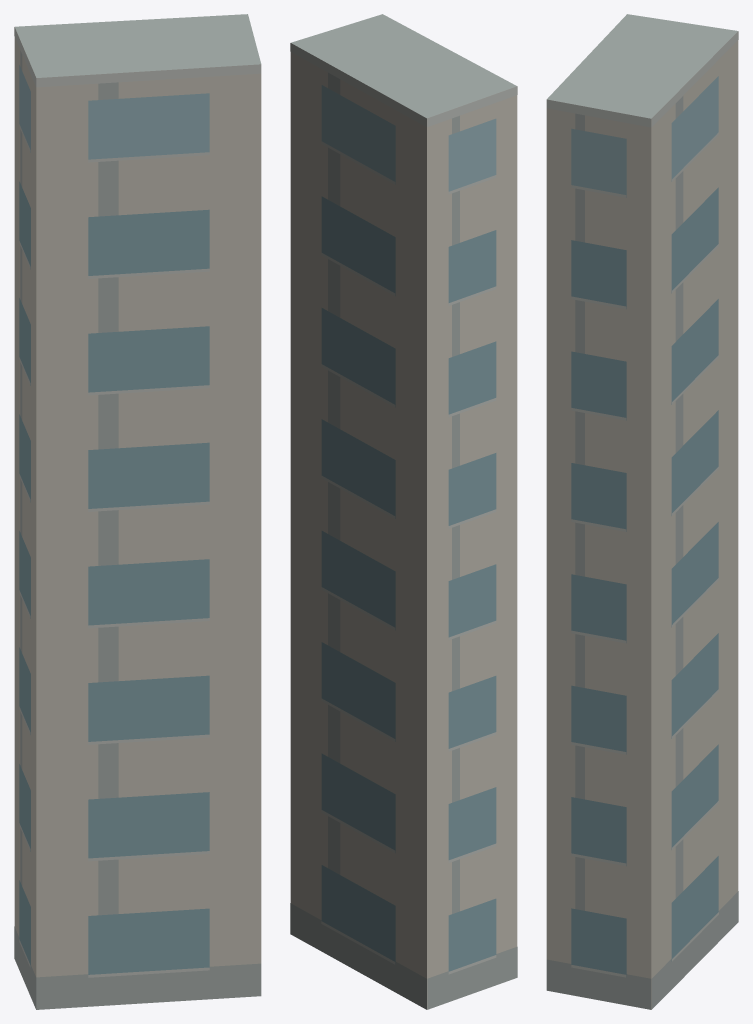
The model's file is survey-upis-32705387.glb.
3 views of the same model, side by side, from view 1: azimuth 30°, elevation 25°; view 2: azimuth 150°, elevation 25°; view 3: azimuth 270°, elevation 25° (orthographic). The views are drawn at different scales.
Visible parts, largest first — view 1: survey-upis-32705387.tmp; view 2: survey-upis-32705387.tmp; view 3: survey-upis-32705387.tmp.
Part boxes in pixels (x1,y1,x2,y2): survey-upis-32705387.tmp: (14,14,261,1009); survey-upis-32705387.tmp: (290,14,517,1009); survey-upis-32705387.tmp: (546,14,738,1009).
Size of the model in its own units: 6.16 by 24.4 by 4.77.
